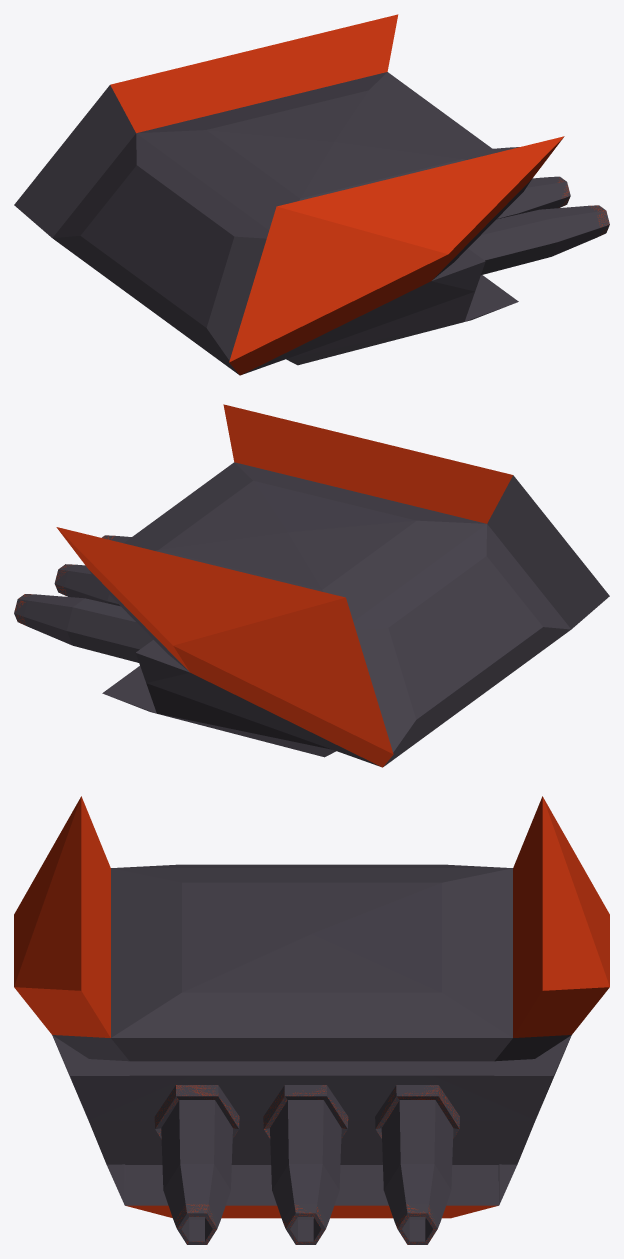
File: enemy3.dae
3 renders of one model, top to bottom at view 1: azimuth 30°, elevation 25°; view 2: azimuth 150°, elevation 25°; view 3: azimuth 270°, elevation 25°, orthographic. The views are drawn at different scales.
Parts seen in each view (by area): view 1: Cylinder; view 2: Cylinder; view 3: Cylinder.
Boxes of the visible parts, bbox=[...] form: Cylinder: bbox=[14, 14, 609, 375]; Cylinder: bbox=[14, 404, 609, 767]; Cylinder: bbox=[14, 796, 609, 1244].
Size of the model in its own units: 2 by 1.69 by 0.8652.
